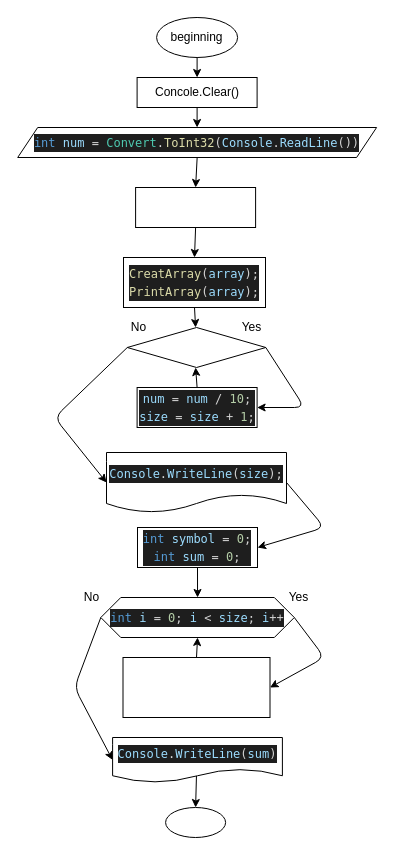
The diagram is 394 pixels wide and 855 high, and some of its shapes have lost their labels. The centre of each missing label's shape, as x and y in pixels:
End: point (195, 822)
int size = 0 ; int num1 = num ;: point (195, 207)
num > 0: point (196, 347)
symbol = num1 % 10 ; num1 = num1 / 10 ; sum = sum + symbol ;: point (196, 687)
